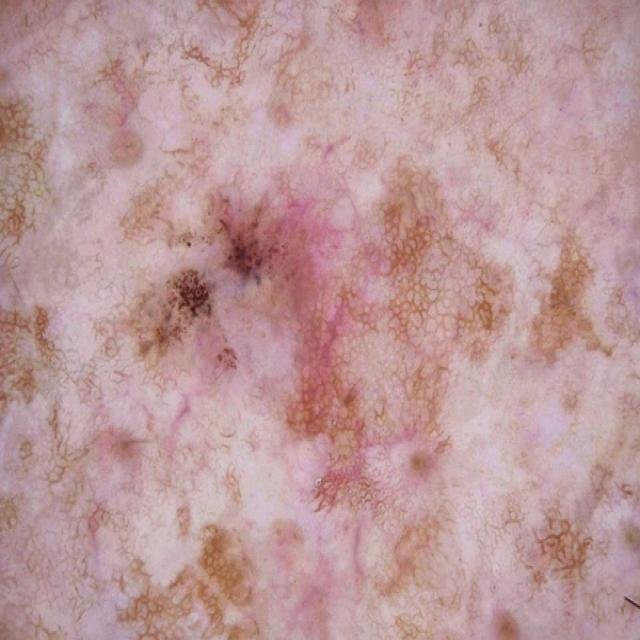Basal-Cell-Carcinoma-BCC-: (23, 34, 608, 615)
